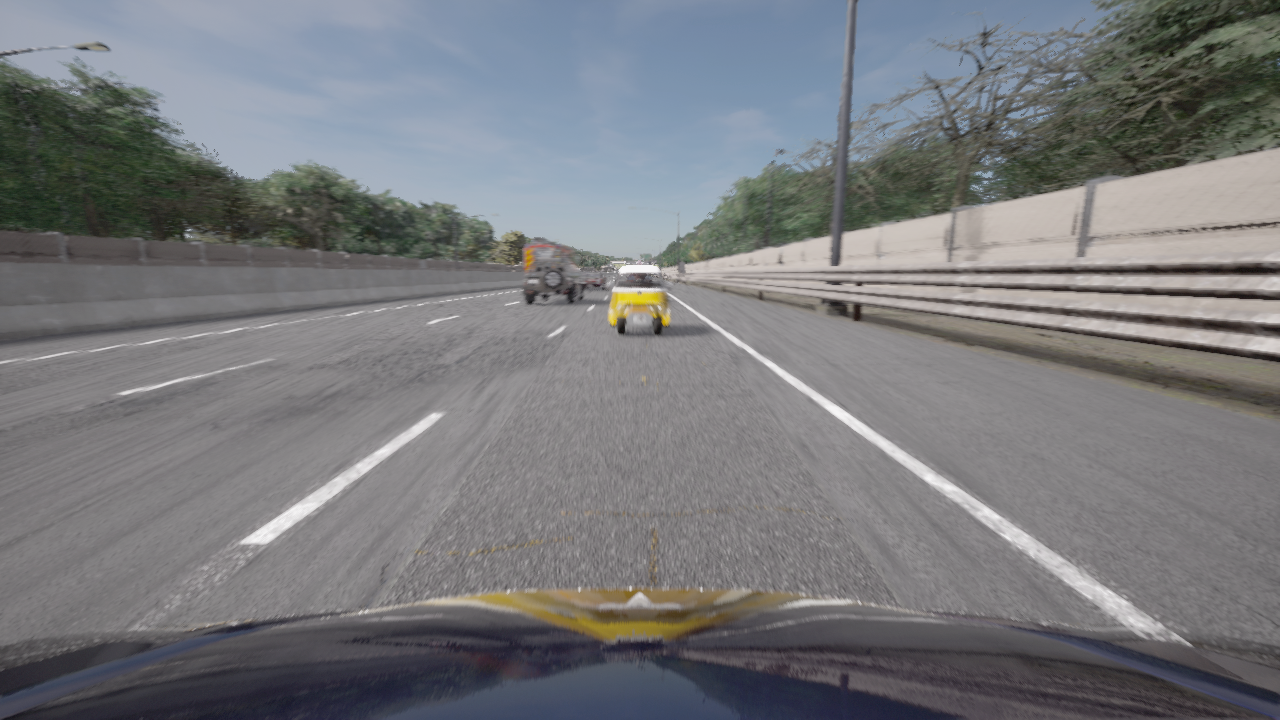cyclist: (0, 588, 1279, 719), (607, 266, 672, 335), (523, 258, 585, 303), (525, 237, 579, 275), (582, 273, 606, 290), (580, 272, 590, 274)
